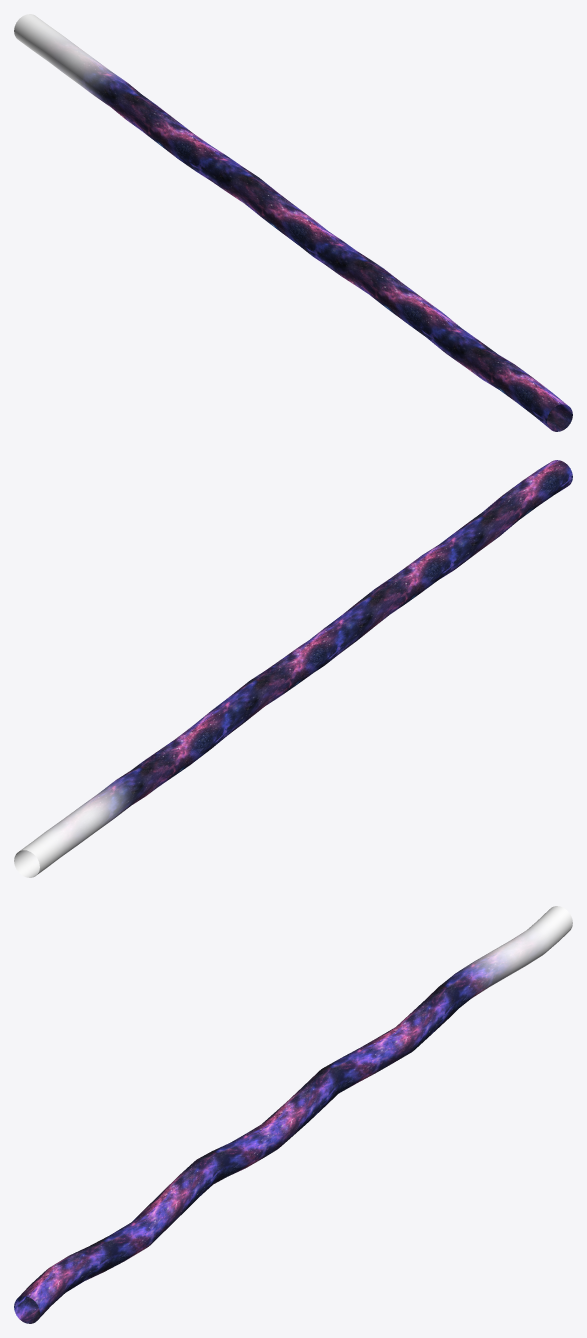
File: Tubo.fbx
3 views of the same model, one above another, from view 1: azimuth 30°, elevation 25°; view 2: azimuth 150°, elevation 25°; view 3: azimuth 330°, elevation 25° (orthographic).
Parts seen in each view (by area): view 1: pCylinder1; view 2: pCylinder1; view 3: pCylinder1.
Part boxes in pixels (x1=…): pCylinder1: x1=14, y1=14, x2=572, y2=431; pCylinder1: x1=14, y1=460, x2=572, y2=877; pCylinder1: x1=14, y1=906, x2=572, y2=1323.
Bounding box in the file's own units: 18.28 × 19.47 × 522.
